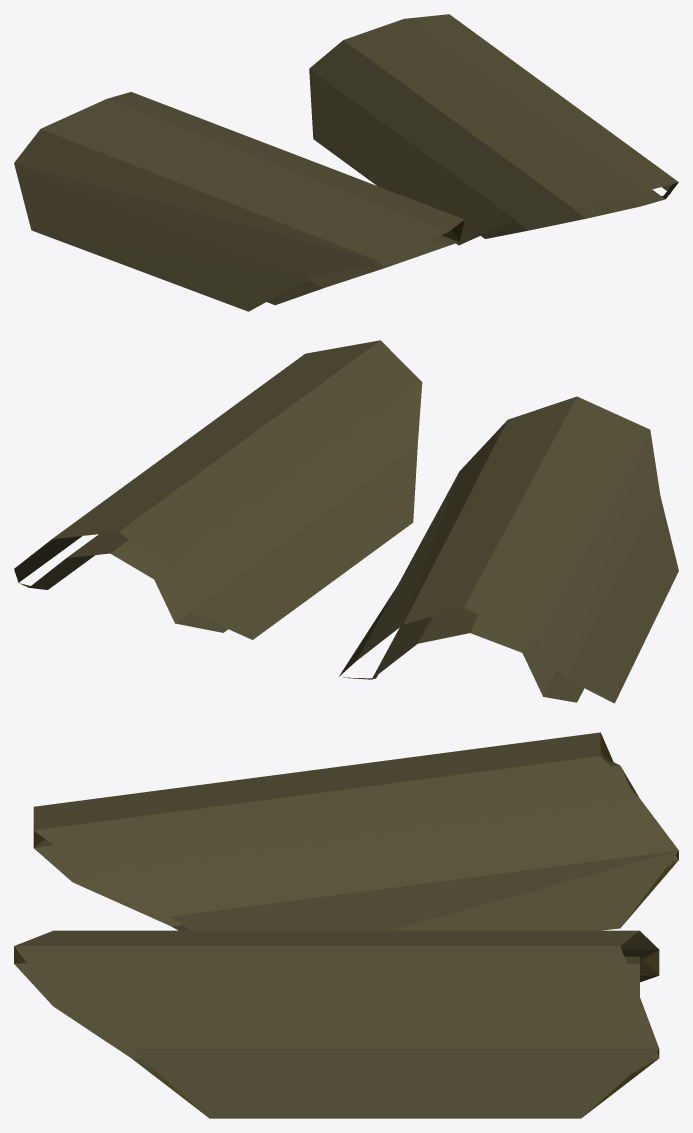
File: inv_red_dragonhide_vambraces.obj
The picture shows the model from 3 angles, top to bottom: view 1: azimuth 30°, elevation 25°; view 2: azimuth 150°, elevation 25°; view 3: azimuth 270°, elevation 25°; orthographic projection. The views are drawn at different scales.
Size of the model in its own units: 0.3047 by 0.0469 by 0.2656.
